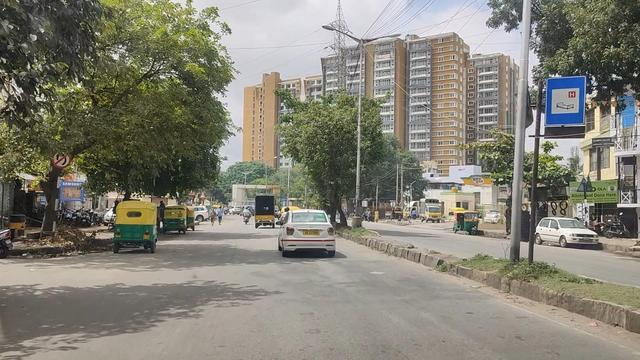LMV: (104, 195, 159, 252), (279, 210, 336, 261)
